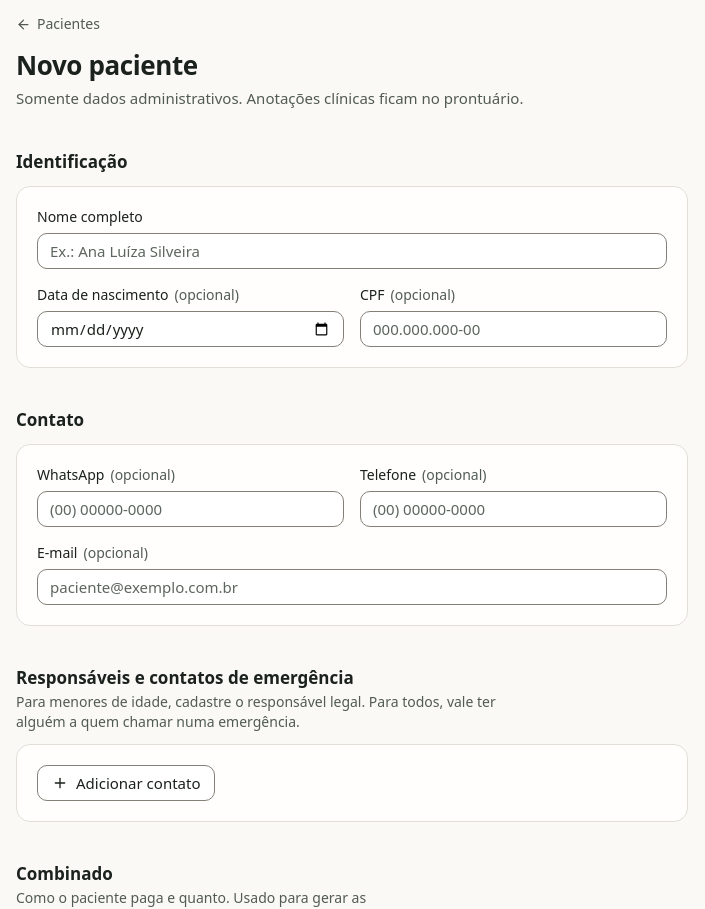
Scenario: FormularioPacientePage › aplica máscara de telefone e CPF enquanto a pessoa digita
In the field labelled "WhatsApp(opcional)": (190, 509) [37,491,344,527], type "11987654321"
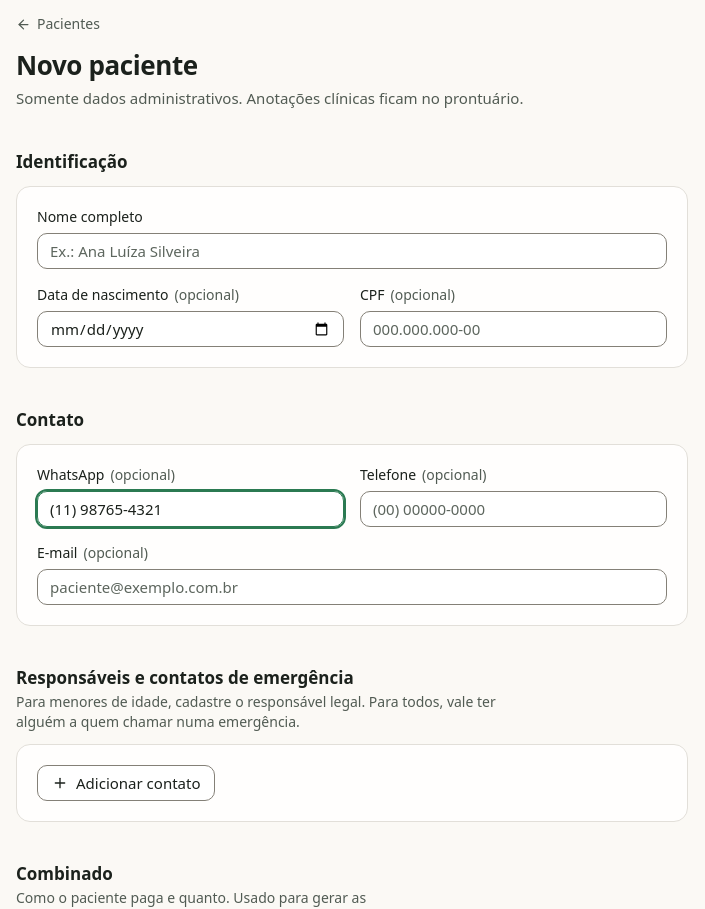
In the field labelled "CPF(opcional)": (514, 329) [360,311,667,347], type "12345678900"
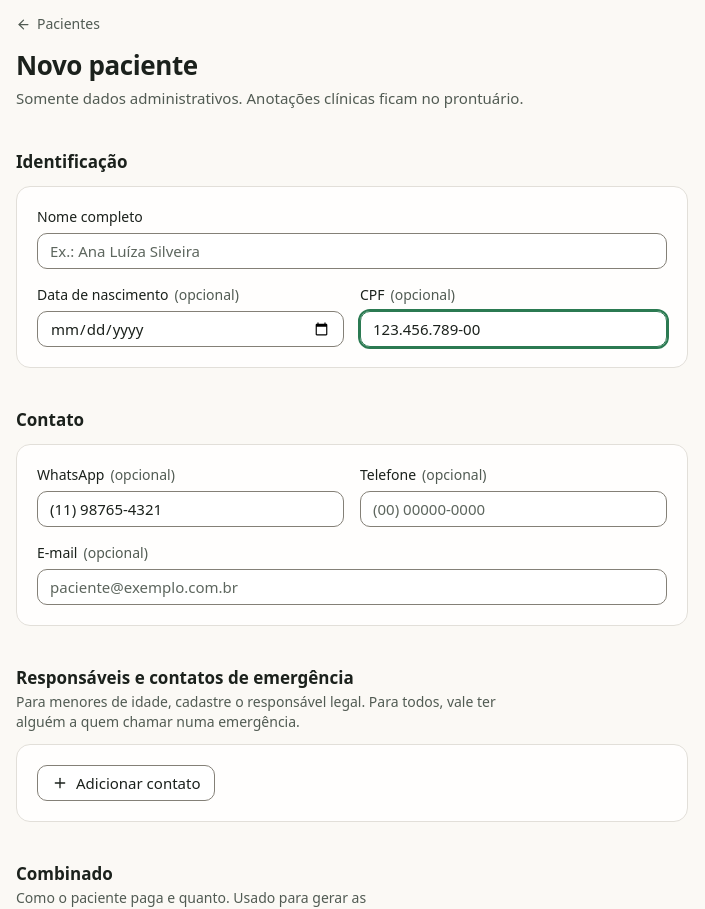
Now the field labelled "WhatsApp(opcional)" holds "(11) 98765-4321", box [37,491,344,527]
Now the field labelled "CPF(opcional)" holds "123.456.789-00", box [360,311,667,347]
